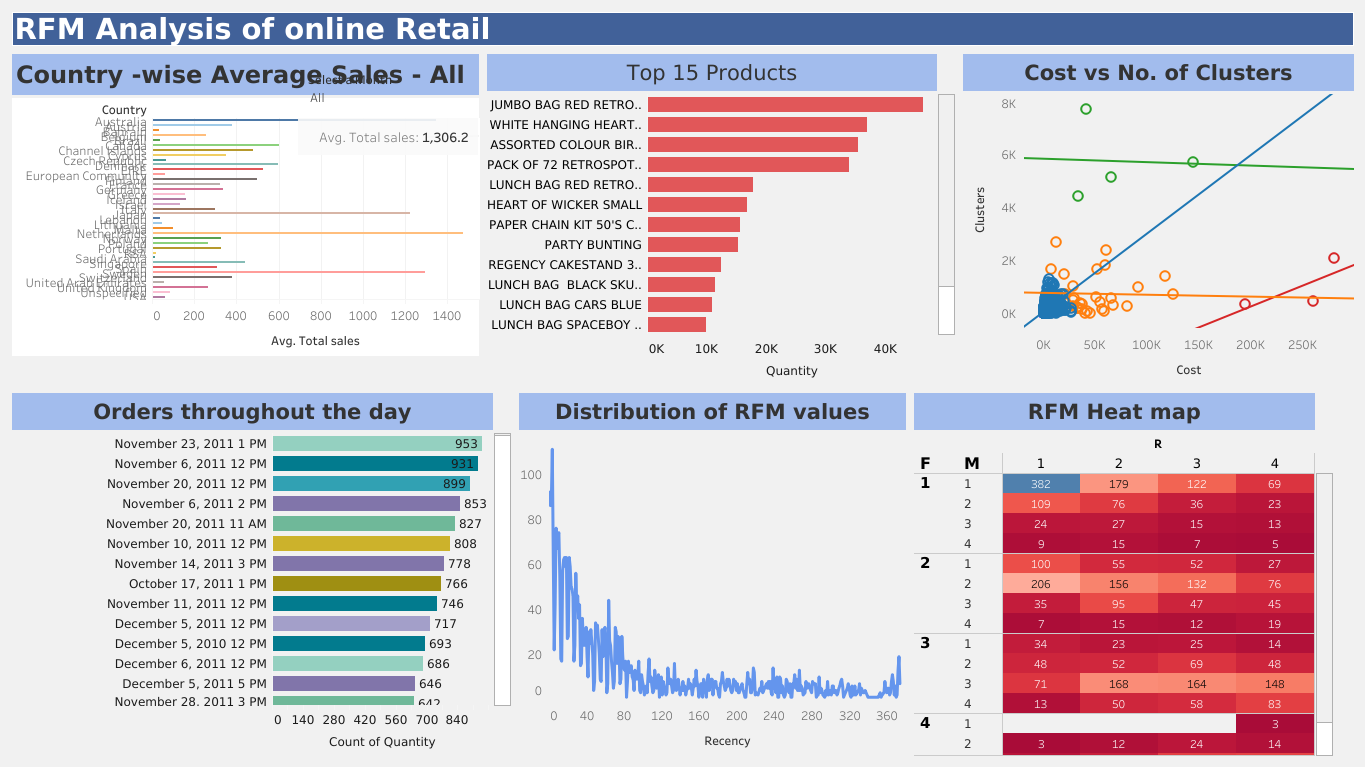

What the dashboard file says about the page in this screenshot:
{"tool":"tableau","page":{"name":"RFM Analysis","canvas":[1366,768],"ordinal":0},"visuals":[{"type":"worksheet","box":[0,0,1366,768]},{"type":"worksheet","param":"vert","box":[8,8,1350,752]},{"type":"worksheet","box":[8,8,1350,42]},{"type":"worksheet","param":"horz","box":[8,50,1350,710]},{"type":"worksheet","box":[8,50,1350,710]},{"type":"worksheet","param":"horz","box":[8,50,1350,338.9]},{"type":"worksheet","box":[8,50,1350,338.9]},{"type":"worksheet","title":"Country wise","mark":"Bar","rows":["Country"],"cols":["Total_sales"],"box":[8,50,475.5,338.9]},{"type":"worksheet","title":"Top Products","mark":"Automatic","rows":["Description"],"cols":["Quantity"],"box":[483.5,50,475.5,338.9]},{"type":"worksheet","title":"Cost vs number of clusters","mark":"Automatic","rows":["Frequency"],"cols":["Monetary"],"box":[959,50,399,338.9]},{"type":"worksheet","title":"Country wise","mark":"Bar","rows":["Country"],"cols":["Total_sales"],"param":"[federated.1gir3qt0jws2ml11xc4oy1gshxmw].[my:InvoiceDate:ok]","box":[308,69,168,91]},{"type":"worksheet","title":"Orders vs throughout the day","mark":"Bar","rows":["InvoiceDate"],"cols":["Quantity"],"box":[8,388.9,507,371.1]},{"type":"worksheet","title":"Recency ","mark":"Automatic","rows":["Recency"],"cols":["Recency"],"box":[515,388.9,395,371.1]},{"type":"worksheet","title":"HeatMap","mark":"Square","rows":["F","M"],"cols":["R"],"box":[910,388.9,448,371.1]}]}

Visuals, with their boxes in screenshot pixels (x1, y1, x2, y2), scaled from the page's 1366x768 canvas onto the 1365x767 screenshot:
worksheet: [left=0, top=0, right=1364, bottom=766]
worksheet: [left=8, top=8, right=1357, bottom=759]
worksheet: [left=8, top=8, right=1357, bottom=50]
worksheet: [left=8, top=50, right=1357, bottom=759]
worksheet: [left=8, top=50, right=1357, bottom=759]
worksheet: [left=8, top=50, right=1357, bottom=388]
worksheet: [left=8, top=50, right=1357, bottom=388]
"Country wise" worksheet (Bar marks): [left=8, top=50, right=483, bottom=388]
"Top Products" worksheet: [left=483, top=50, right=958, bottom=388]
"Cost vs number of clusters" worksheet: [left=958, top=50, right=1357, bottom=388]
"Country wise" worksheet (Bar marks): [left=308, top=69, right=476, bottom=160]
"Orders vs throughout the day" worksheet (Bar marks): [left=8, top=388, right=515, bottom=759]
"Recency " worksheet: [left=515, top=388, right=909, bottom=759]
"HeatMap" worksheet (Square marks): [left=909, top=388, right=1357, bottom=759]
